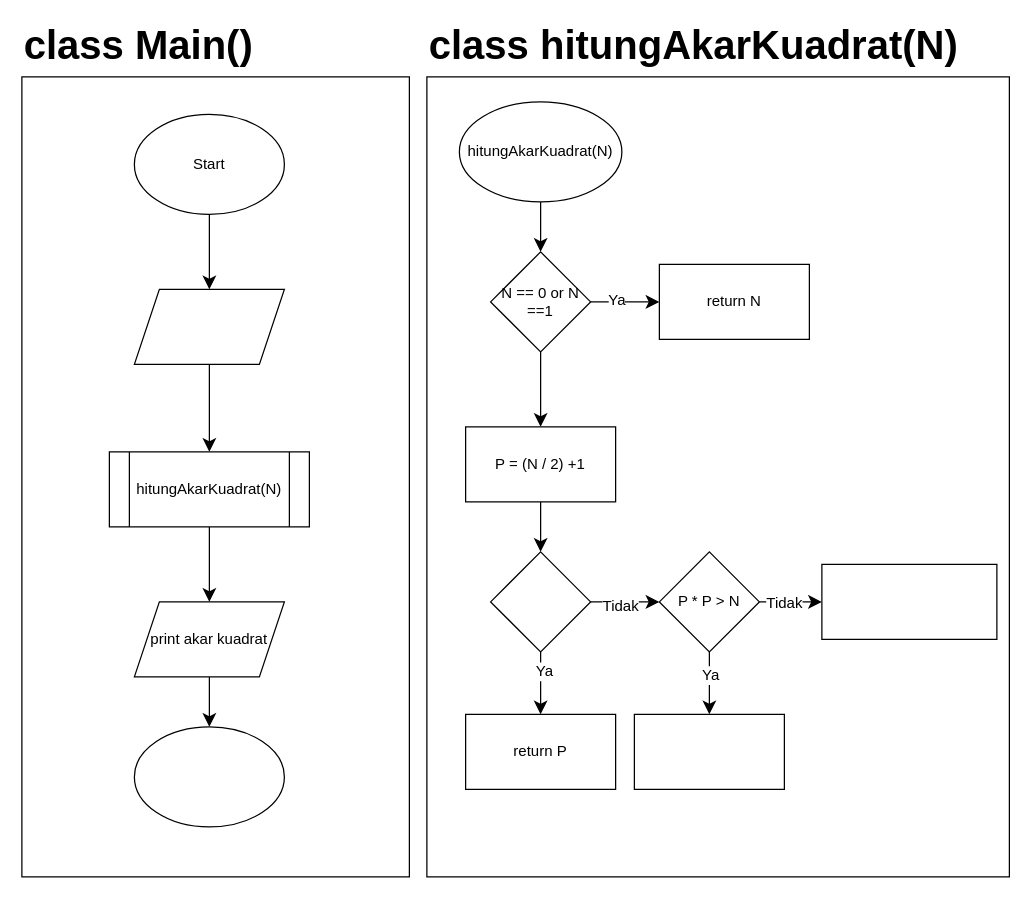
Image size: 1031x899. Some labels were removed from this diagram. Here are the shapes that lost their labels. From the top down, the centre of each, then its label:
the point at 208,326: input N
the point at 540,601: P * P == N
the point at 909,601: return hitungAkarKuadrat((int) P)
the point at 708,751: return hitungAkarKuadrat(N-P)
the point at 208,776: end
